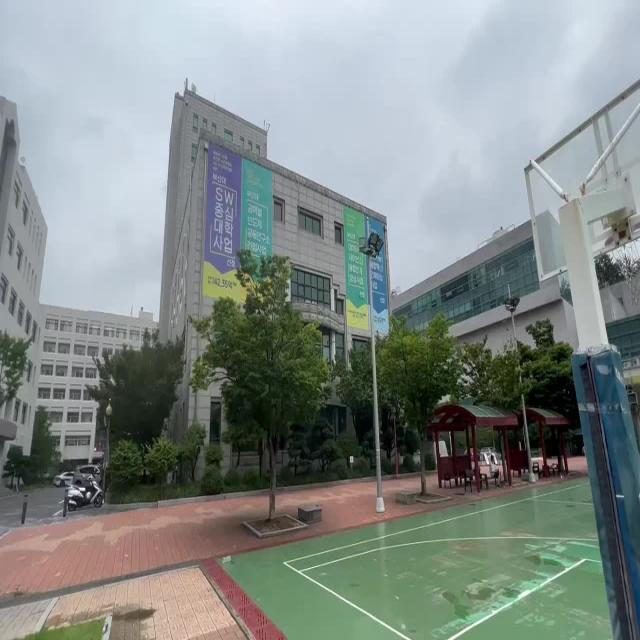building: (167, 88, 280, 264)
